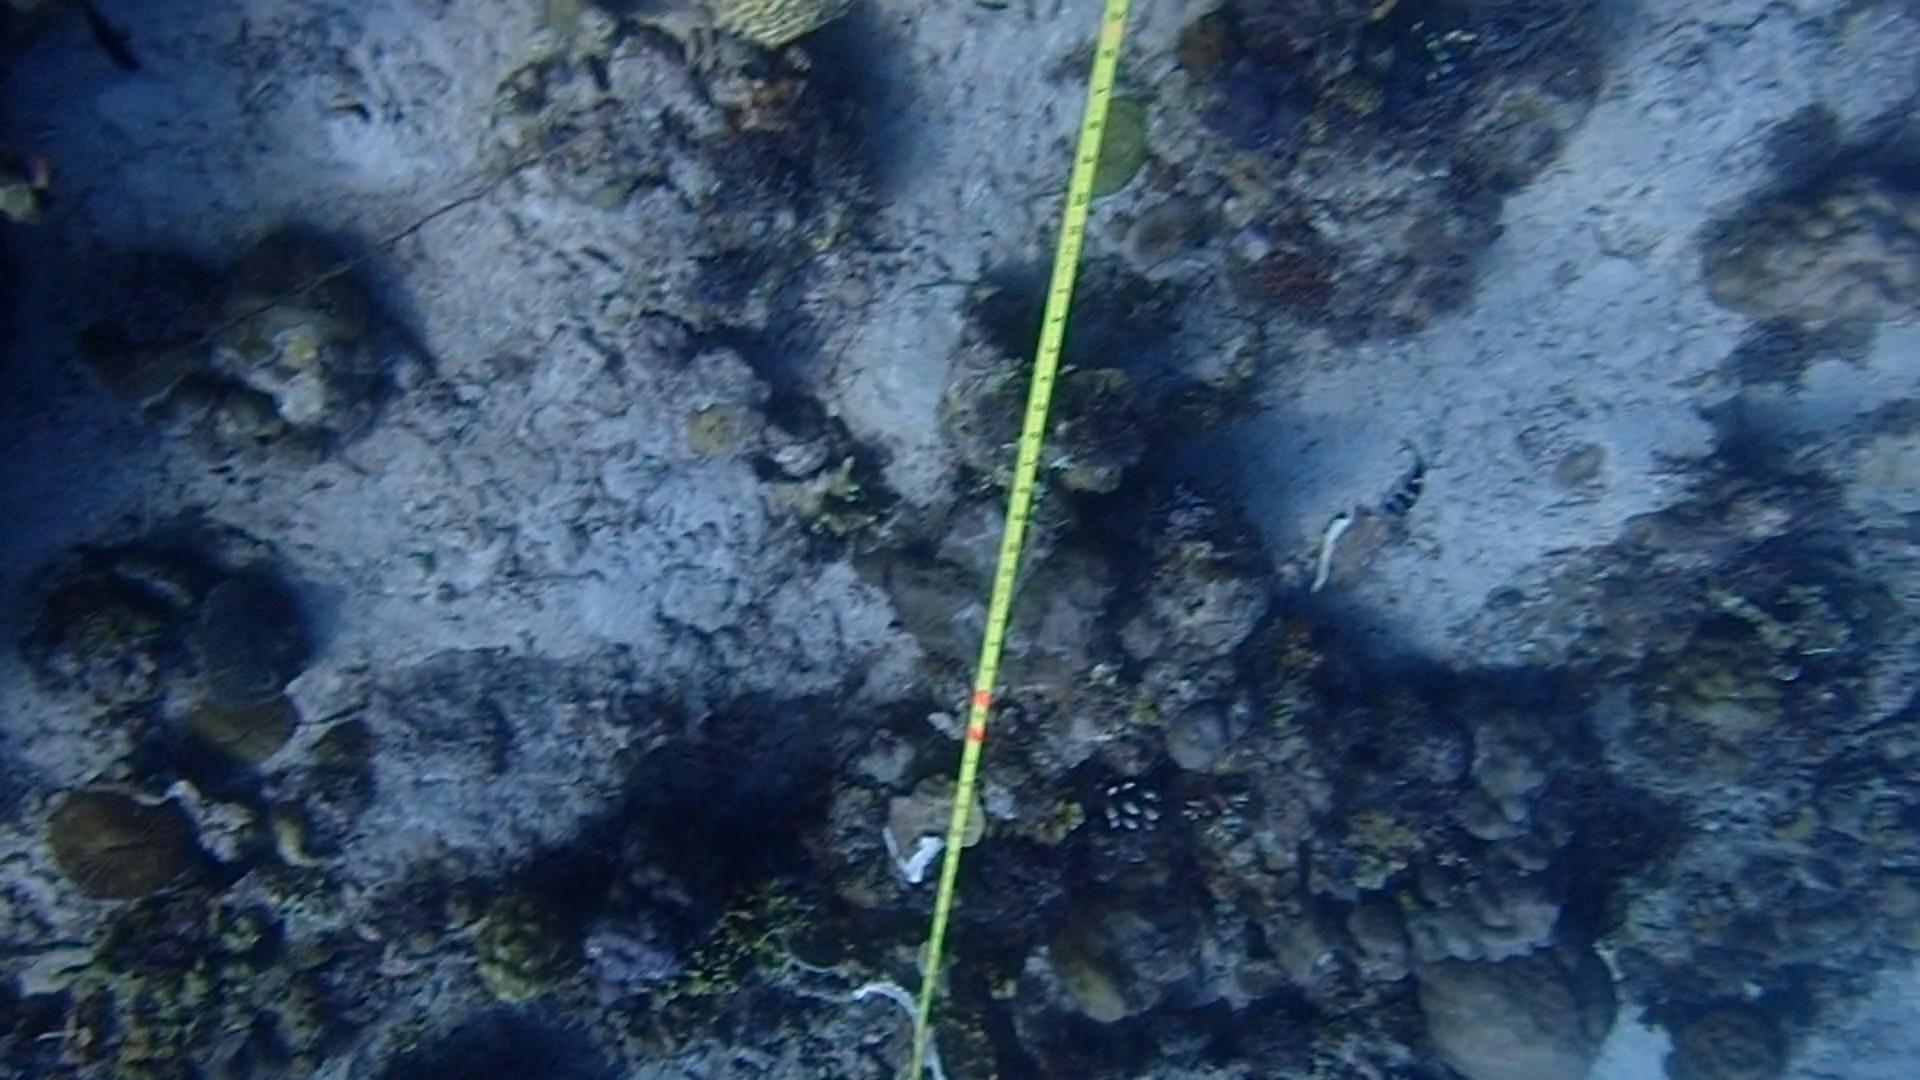Striped Fish: (1375, 429, 1448, 537)
